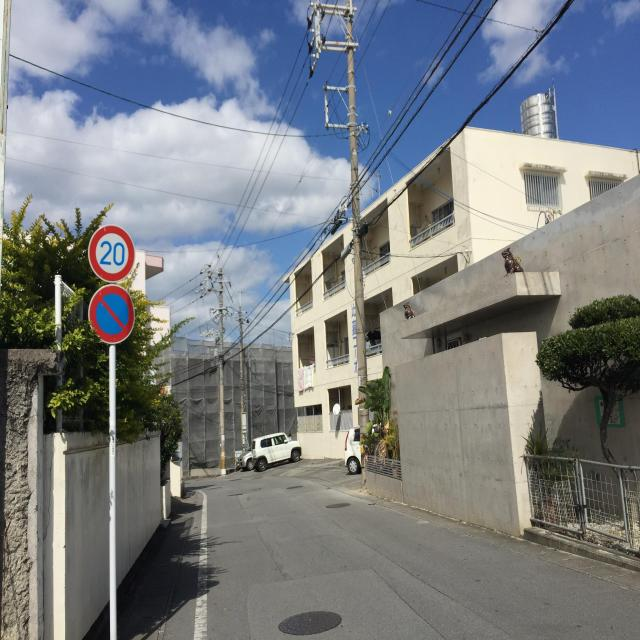Good: (276, 608, 347, 639), (324, 500, 352, 512), (285, 484, 304, 491), (228, 491, 244, 499)
